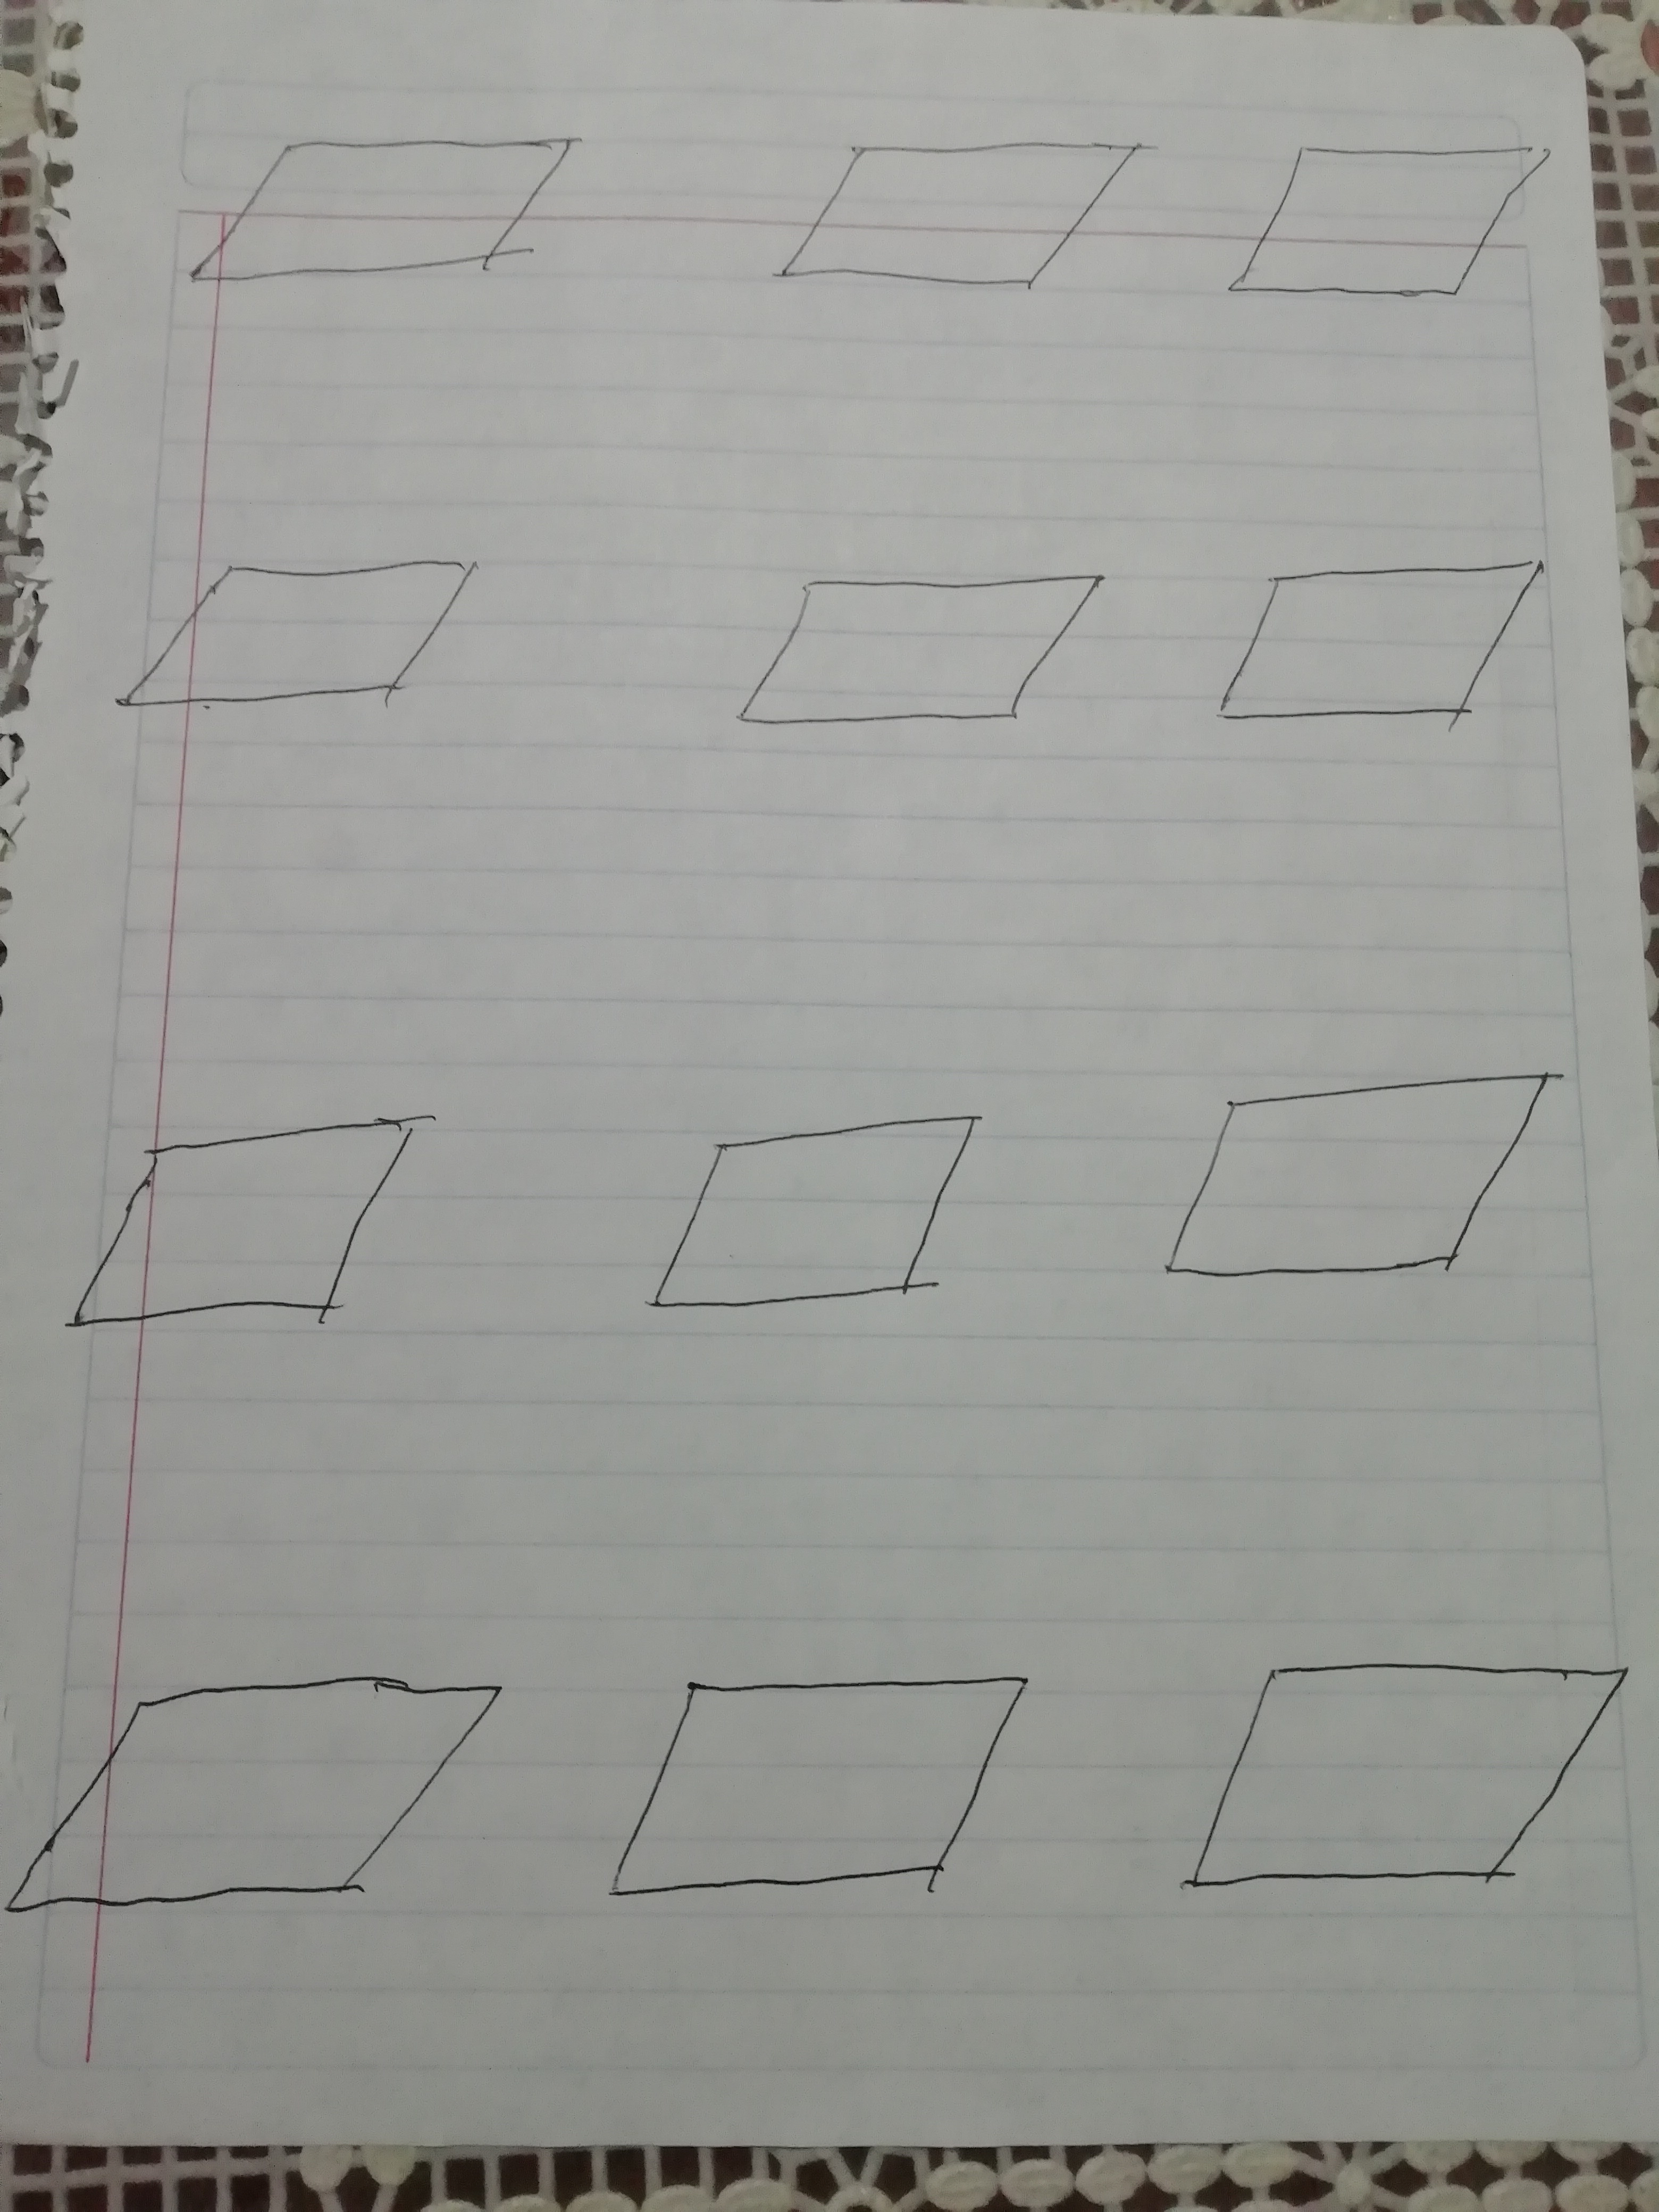scan: (5, 1637, 523, 2000), (572, 1641, 1075, 1970), (1119, 1045, 1612, 1369), (1161, 1627, 1657, 1928), (16, 1089, 474, 1372), (608, 1066, 1006, 1379), (704, 545, 1164, 794), (150, 92, 601, 319), (753, 99, 1168, 343), (77, 531, 523, 737), (1208, 106, 1575, 350), (1192, 542, 1572, 758)
